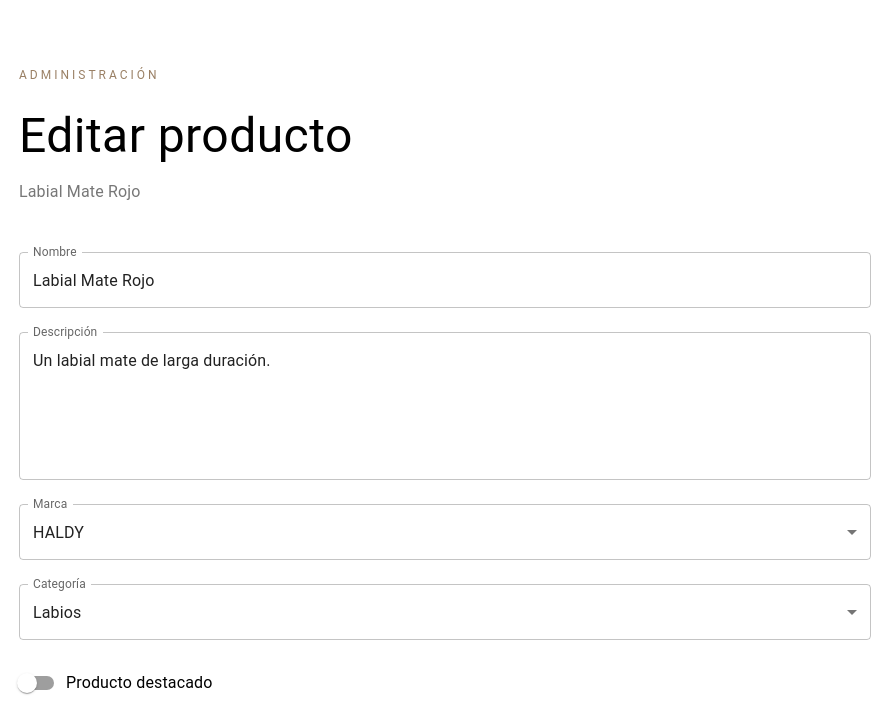
Test: AdminProductEdit › requires the product name
Clear the field labelled "Nombre" at point(445, 280), box 19,252 -> 871,308
(page scrolled)
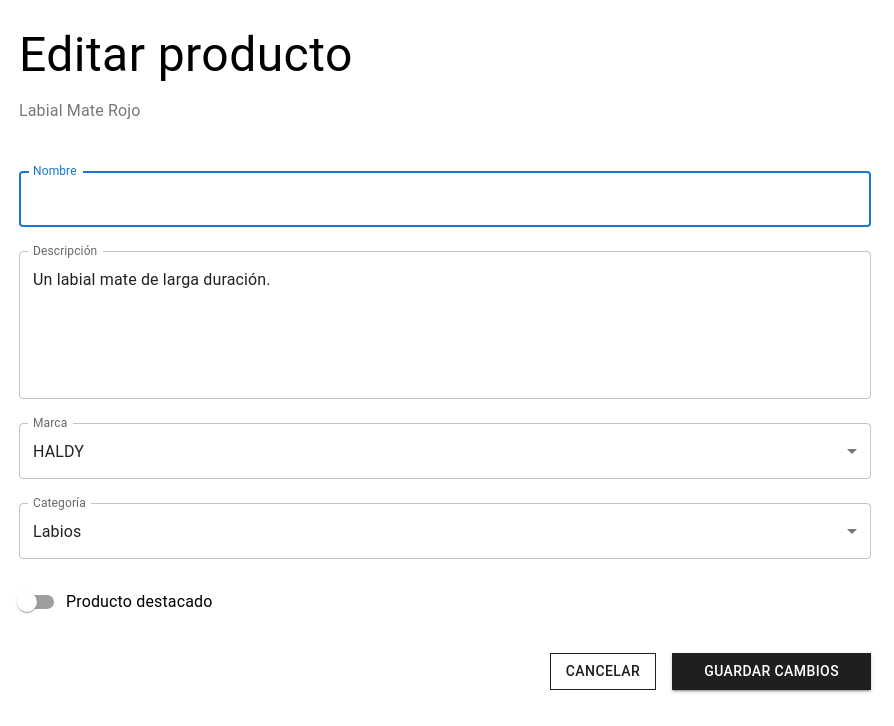
Click the button "Guardar cambios" at point(772, 671), box 672,653 -> 871,690
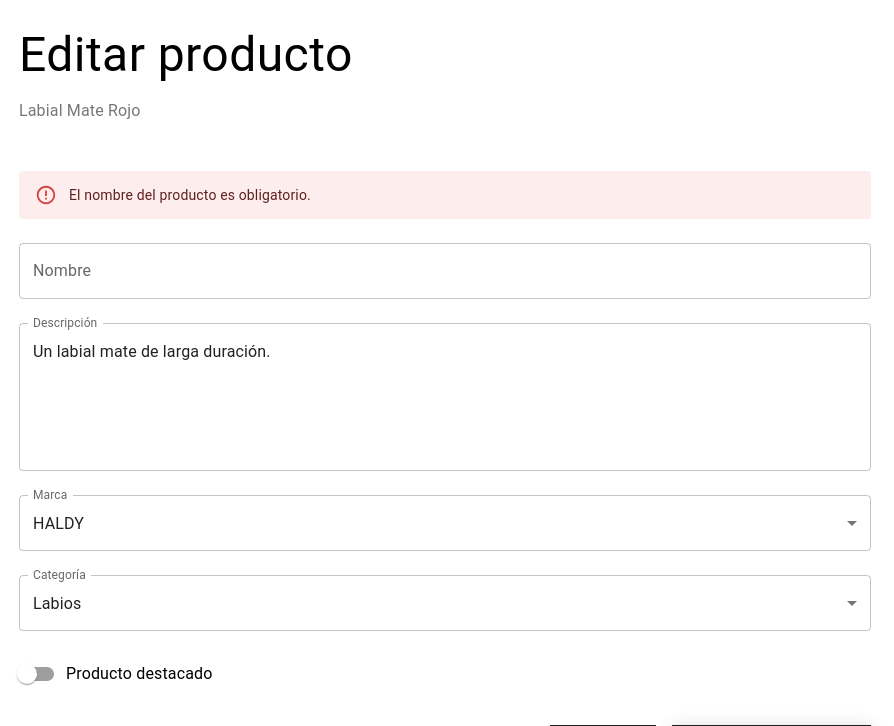
Expected: the text "El nombre del producto es obligatorio." is shown, 69,187 -> 311,203
